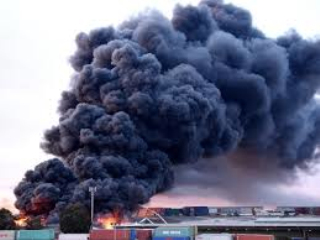fire: (97, 211, 123, 227)
smoke: (30, 15, 296, 196), (17, 81, 161, 226)
